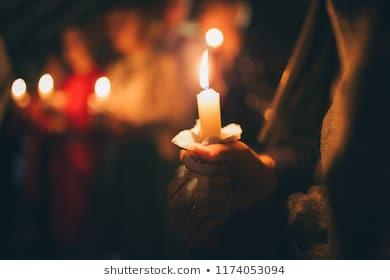fire: (195, 48, 213, 89), (191, 119, 202, 133)
